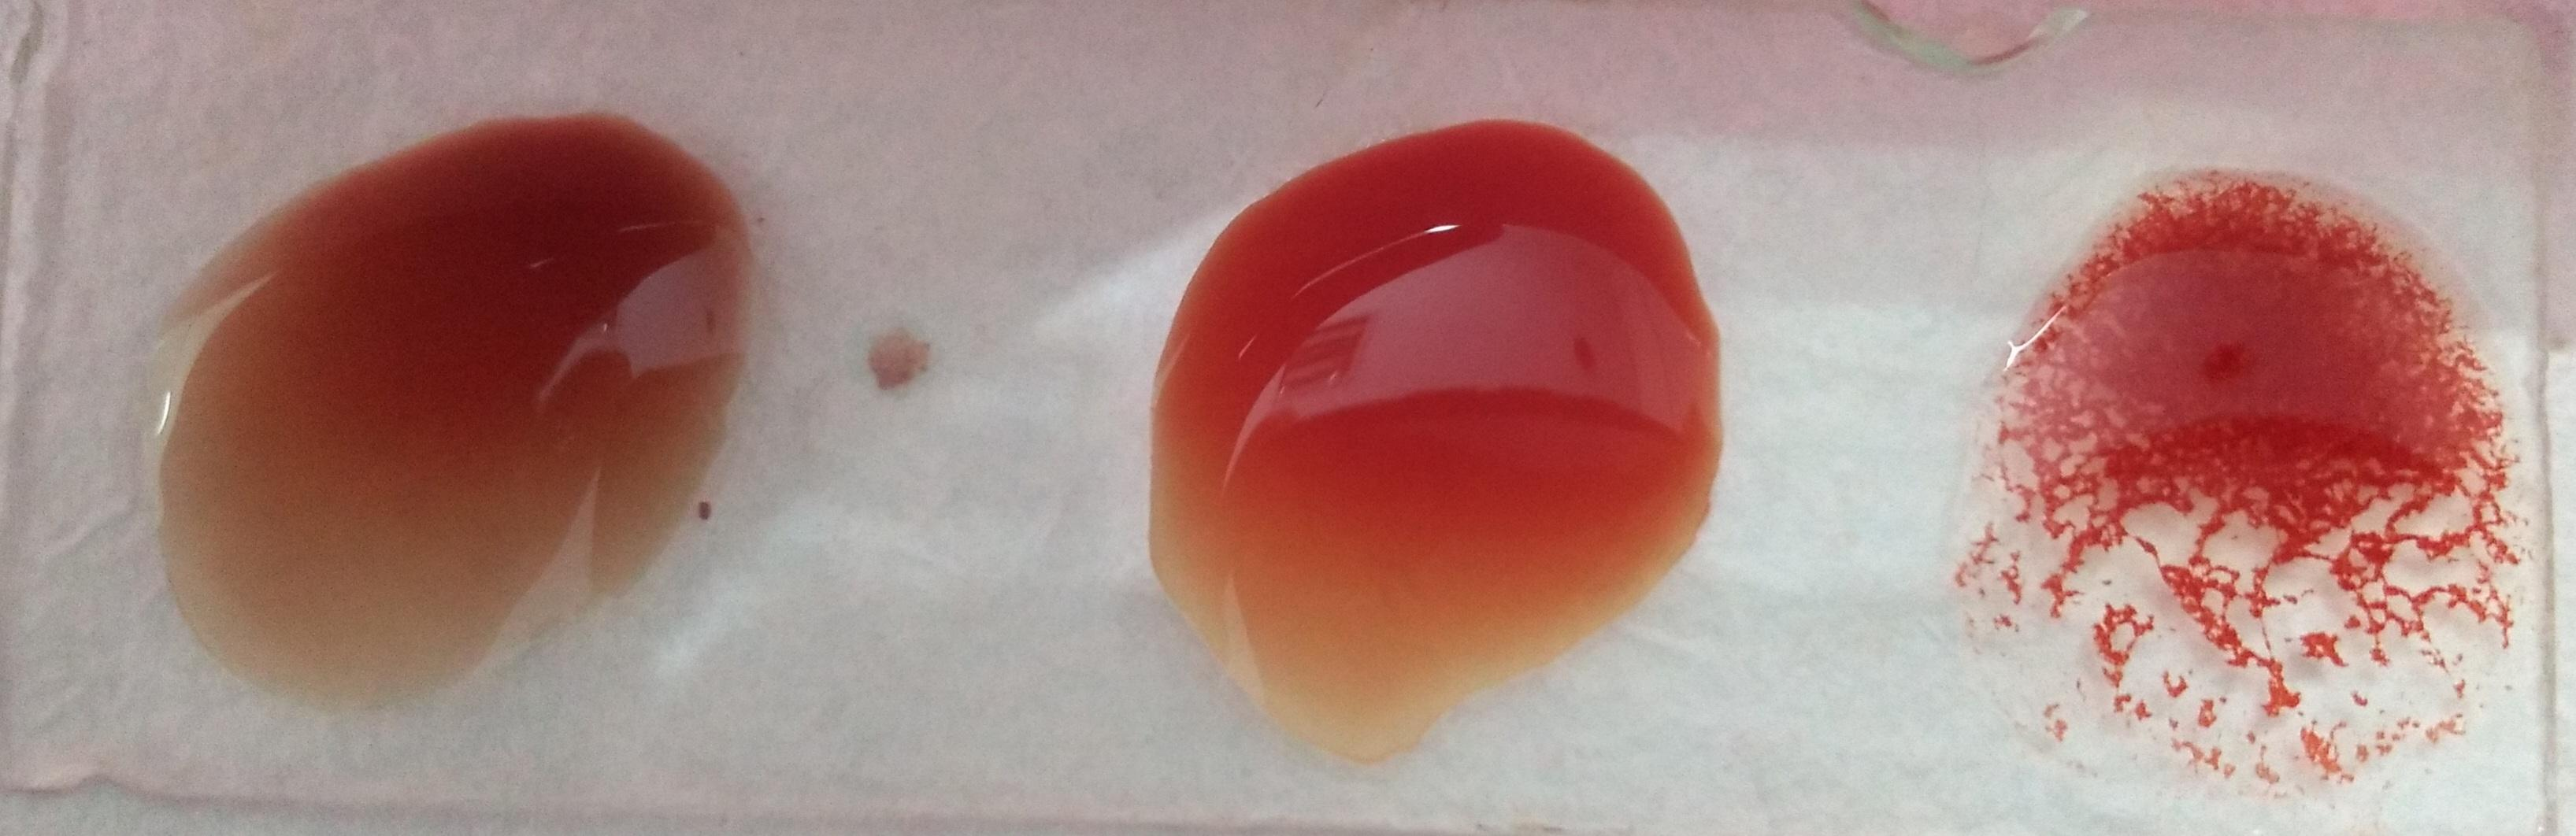D: (1945, 163, 2518, 774)
